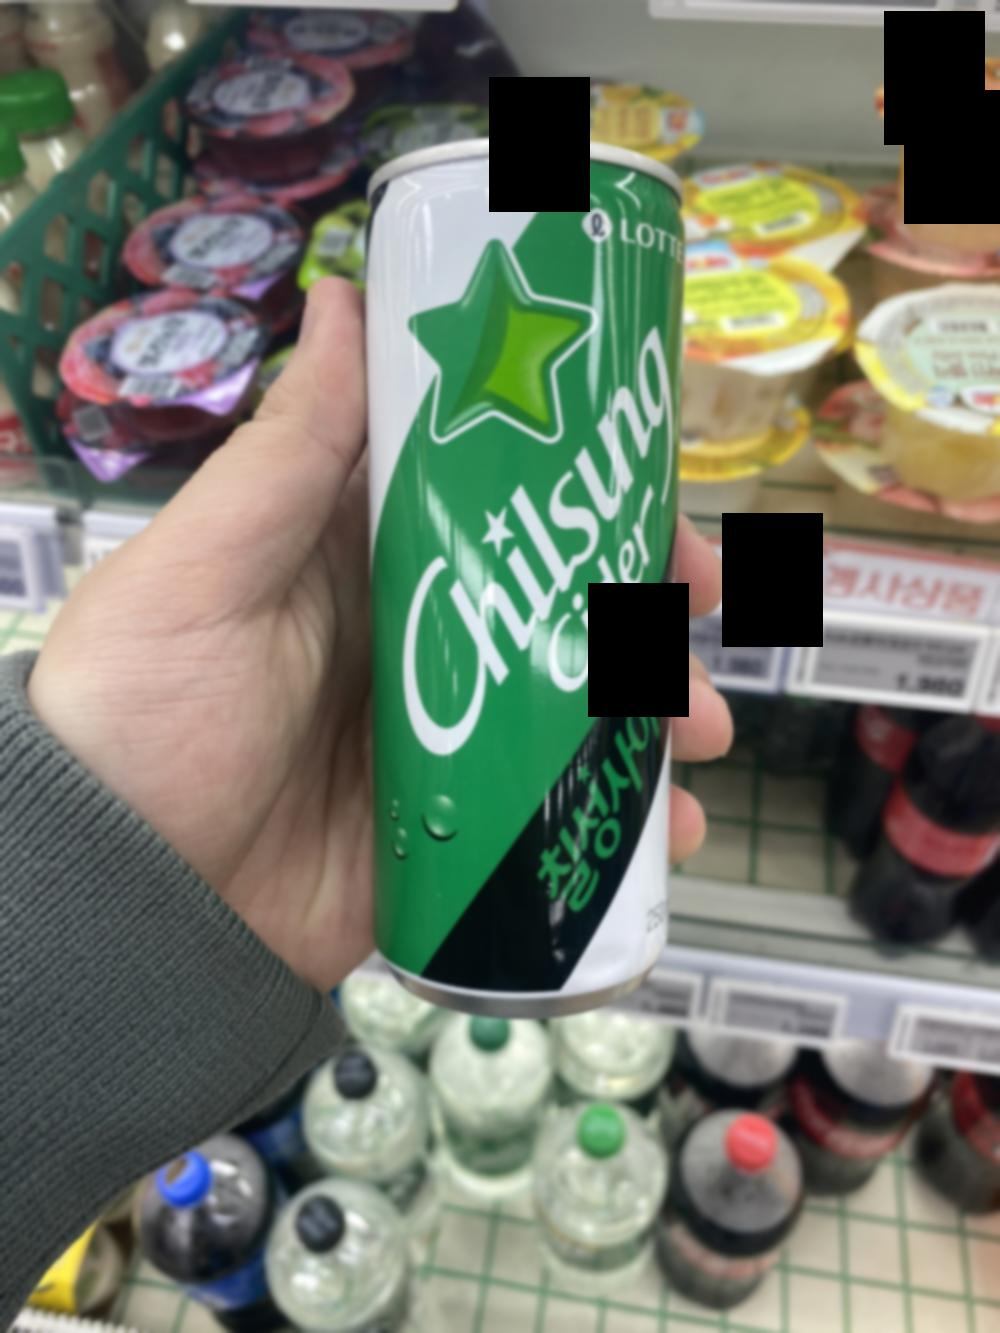chilsungcider_zero: (355, 147, 686, 1008)
